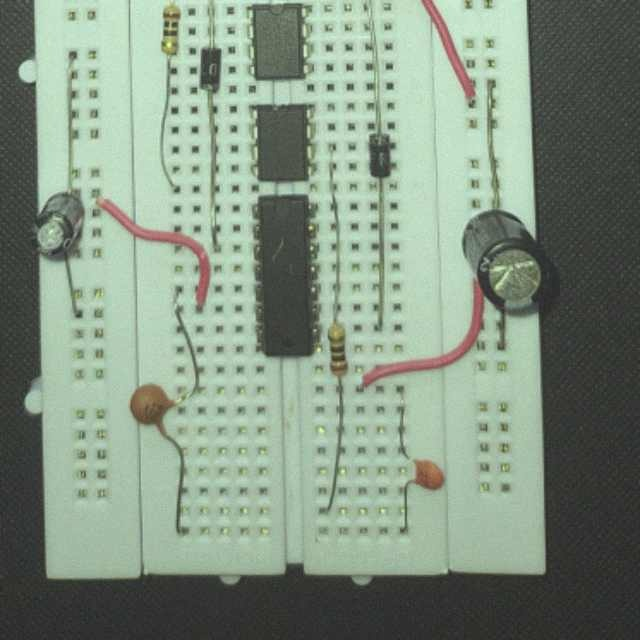capacitor: (460, 208, 551, 310), (26, 192, 86, 256), (127, 381, 175, 436), (407, 456, 446, 495)
resistor: (325, 321, 351, 378), (161, 4, 181, 59)
